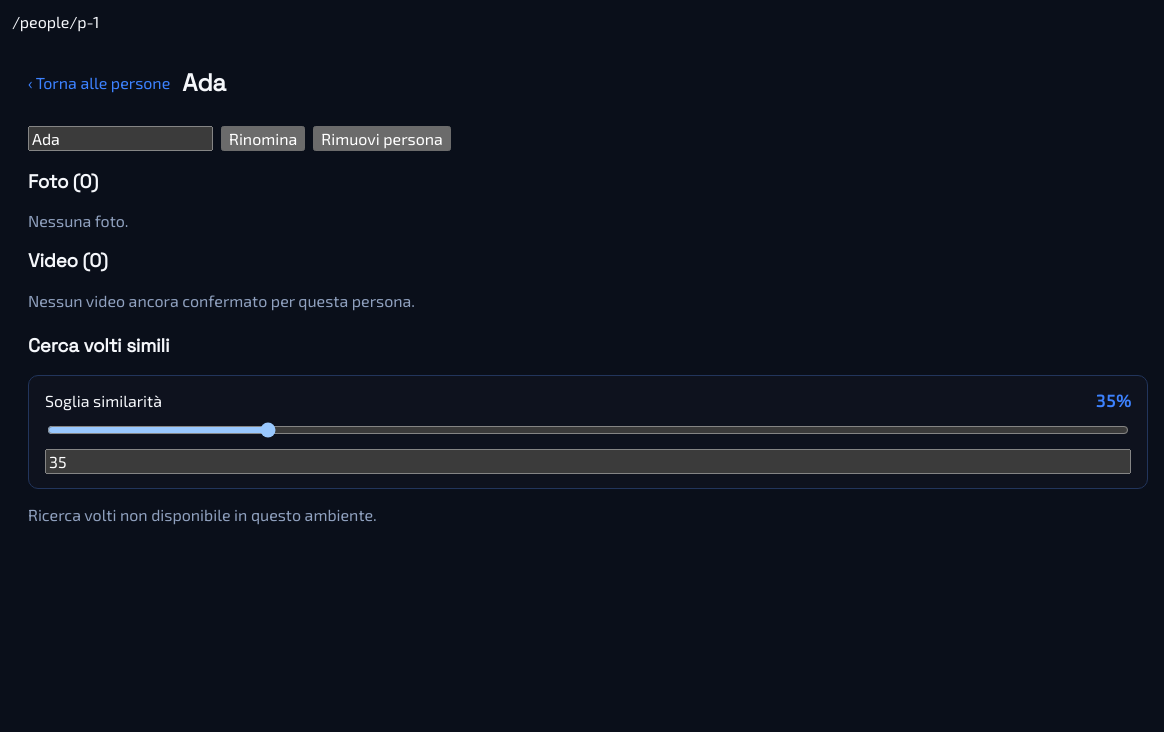
Test: person detail return navigation › falls back to the named tab when the person URL was opened directly
The image size is (1164, 732).
Click the link "‹ Torna alle persone" at (99, 82), box x1=28 y1=73 x2=170 y2=92
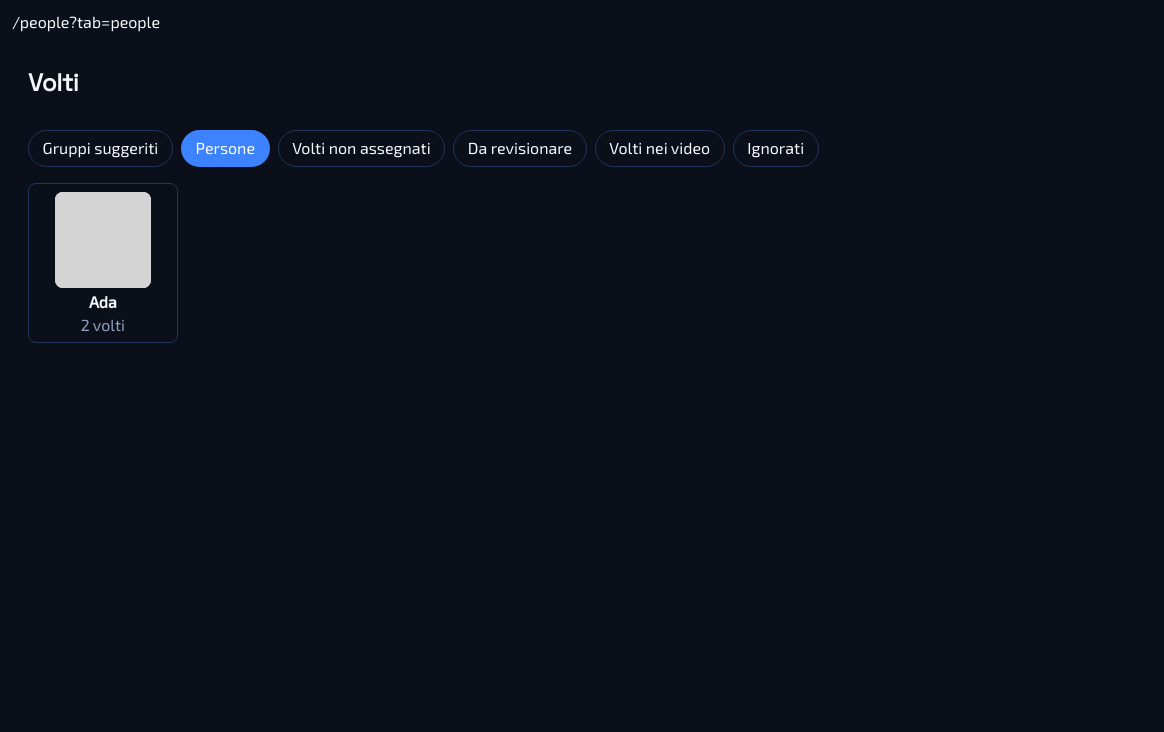
Now the text with test id "location" reads "/people?tab=people", box x1=12 y1=12 x2=160 y2=31
